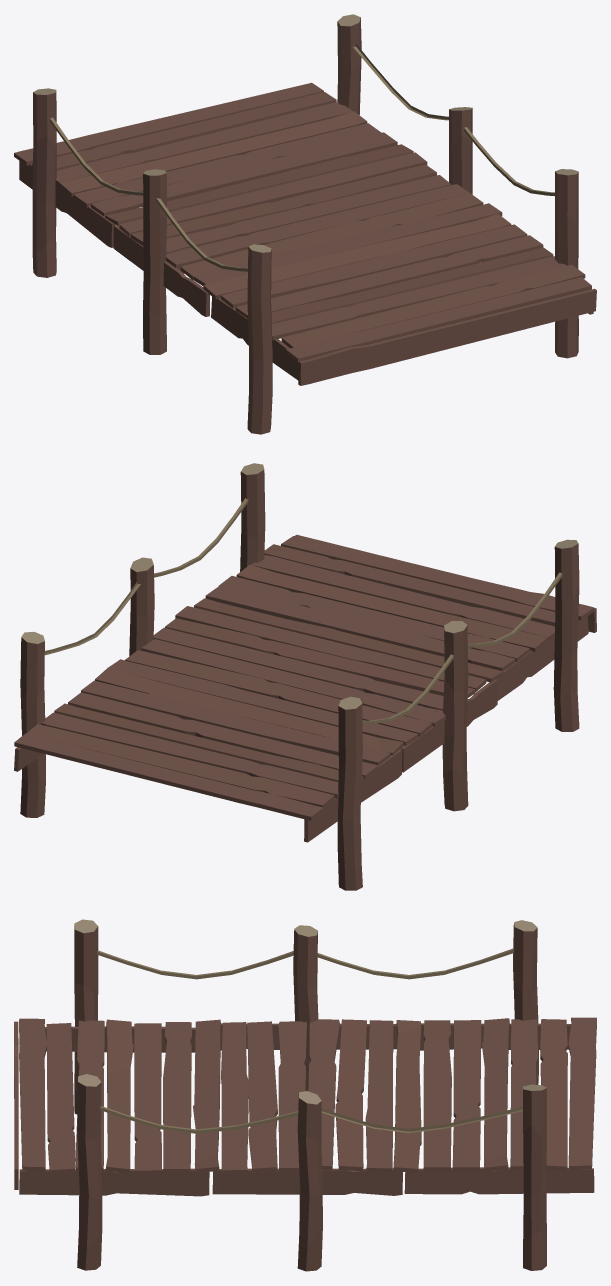
File: Dock_Wide.glb
3 renders of one model, top to bottom at view 1: azimuth 30°, elevation 25°; view 2: azimuth 150°, elevation 25°; view 3: azimuth 270°, elevation 25°, orthographic. The views are drawn at different scales.
Parts seen in each view (by area): view 1: Dock_Wide; view 2: Dock_Wide; view 3: Dock_Wide.
Part boxes in pixels (x1=…): Dock_Wide: x1=14, y1=14, x2=596, y2=434; Dock_Wide: x1=14, y1=463, x2=596, y2=890; Dock_Wide: x1=14, y1=919, x2=596, y2=1271.
Size of the model in its own units: 14.63 by 7.68 by 21.69.
